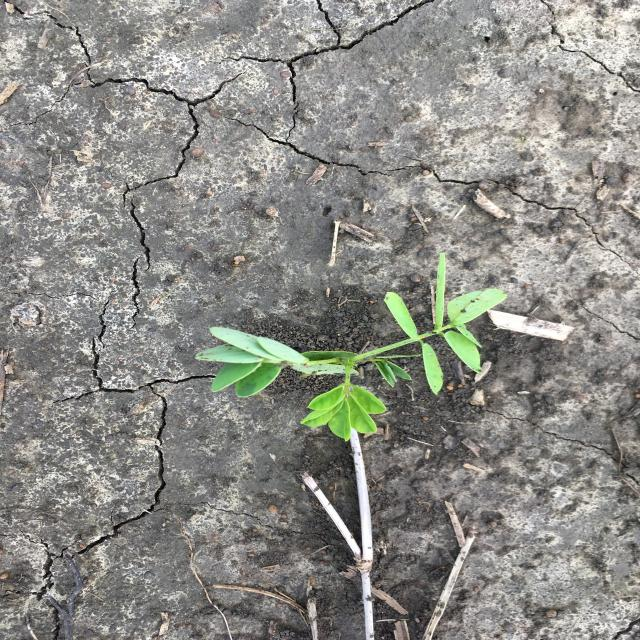Sicklepod: (193, 251, 511, 443)
